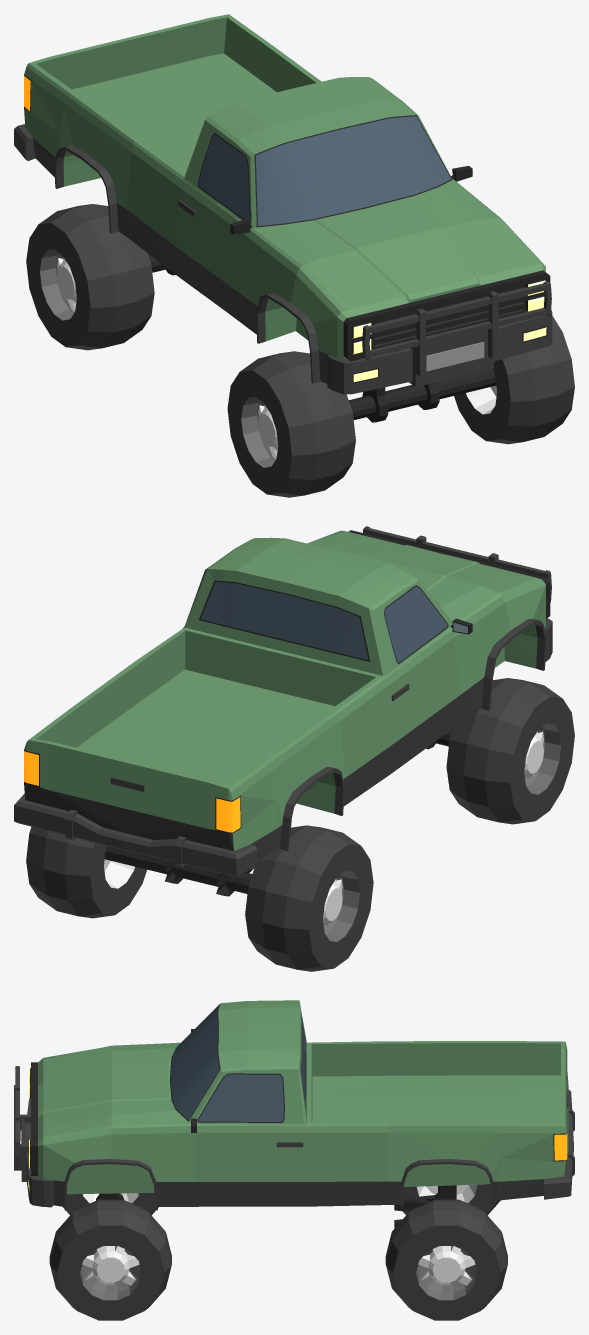
Rendered from monster15.glb.
3 renders of one model, top to bottom at view 1: azimuth 30°, elevation 25°; view 2: azimuth 150°, elevation 25°; view 3: azimuth 270°, elevation 25°, orthographic. The views are drawn at different scales.
Parts seen in each view (by area): view 1: Monster Truck_15, Monster Truck_15 BR Tire, Monster Truck_15 FR Tire, Monster Truck_15 FL Tire; view 2: Monster Truck_15, Monster Truck_15 BR Tire, Monster Truck_15 FR Tire, Monster Truck_15 BL Tire; view 3: Monster Truck_15, Monster Truck_15 BL Tire, Monster Truck_15 FL Tire, Monster Truck_15 BR Tire, Monster Truck_15 FR Tire.
Part boxes in pixels (left/top/right/bottom): Monster Truck_15: left=14, top=14, right=552, bottom=422; Monster Truck_15 BR Tire: left=26, top=204, right=154, bottom=350; Monster Truck_15 FR Tire: left=227, top=351, right=355, bottom=497; Monster Truck_15 FL Tire: left=454, top=316, right=574, bottom=444; Monster Truck_15: left=14, top=526, right=552, bottom=896; Monster Truck_15 BR Tire: left=245, top=825, right=373, bottom=971; Monster Truck_15 FR Tire: left=446, top=678, right=574, bottom=824; Monster Truck_15 BL Tire: left=26, top=826, right=146, bottom=918; Monster Truck_15: left=14, top=1000, right=574, bottom=1228; Monster Truck_15 BL Tire: left=385, top=1199, right=507, bottom=1320; Monster Truck_15 FL Tire: left=49, top=1199, right=171, bottom=1320; Monster Truck_15 BR Tire: left=403, top=1184, right=500, bottom=1215; Monster Truck_15 FR Tire: left=63, top=1193, right=158, bottom=1215.
Size of the model in its own units: 2.95 by 2.88 by 6.07.
2 materials, 2 textured.
